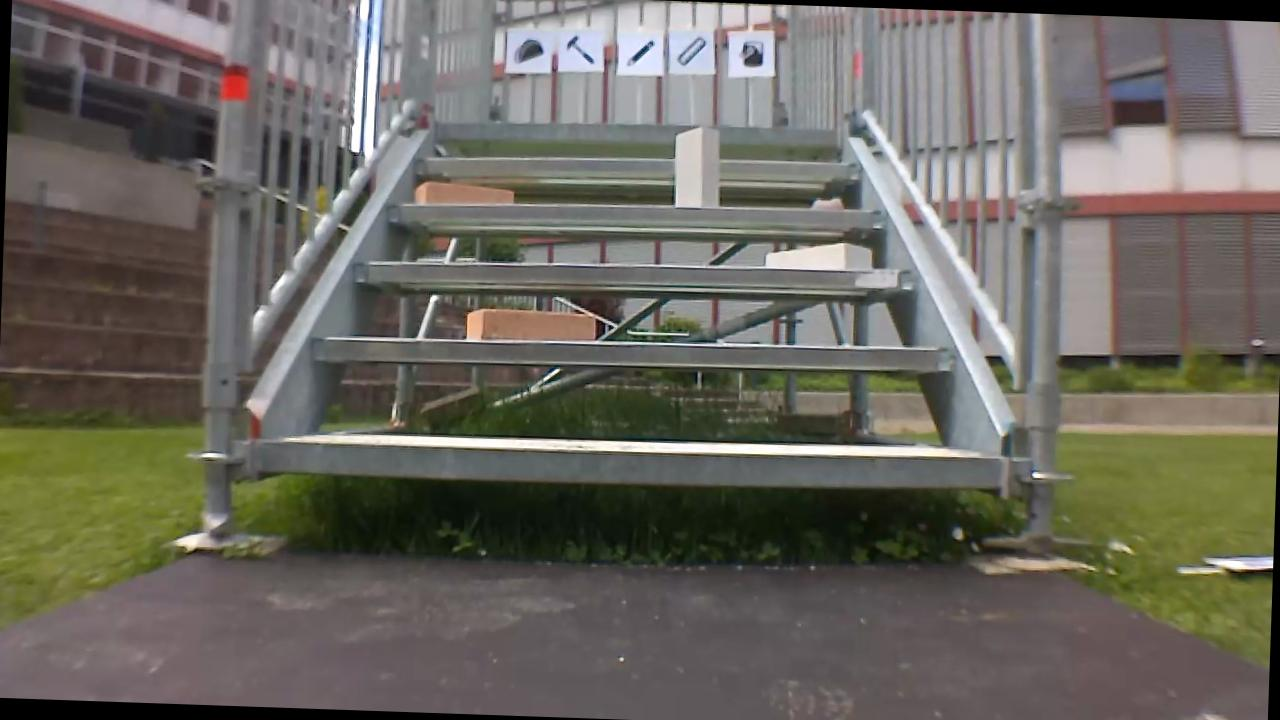brick: (465, 307, 595, 343), (673, 127, 721, 207), (768, 241, 872, 270), (414, 181, 513, 205)
bucket: (737, 35, 766, 69)
edge: (255, 429, 1003, 496), (316, 325, 956, 376), (355, 250, 918, 295), (386, 193, 884, 233), (416, 147, 861, 185), (437, 114, 850, 150)
hammer: (562, 33, 598, 68)
pencil: (625, 35, 656, 70)
ruler: (674, 31, 710, 68)
steps: (243, 95, 1022, 508)
taco: (507, 34, 545, 68)
